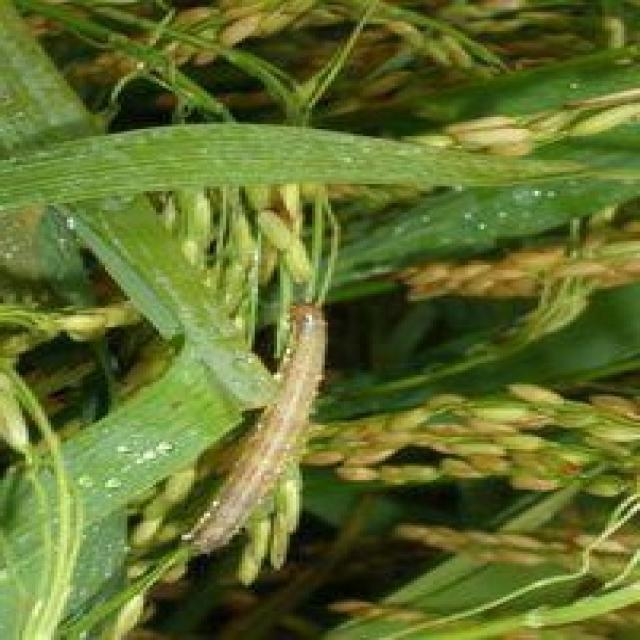army worm: (171, 302, 334, 560)
